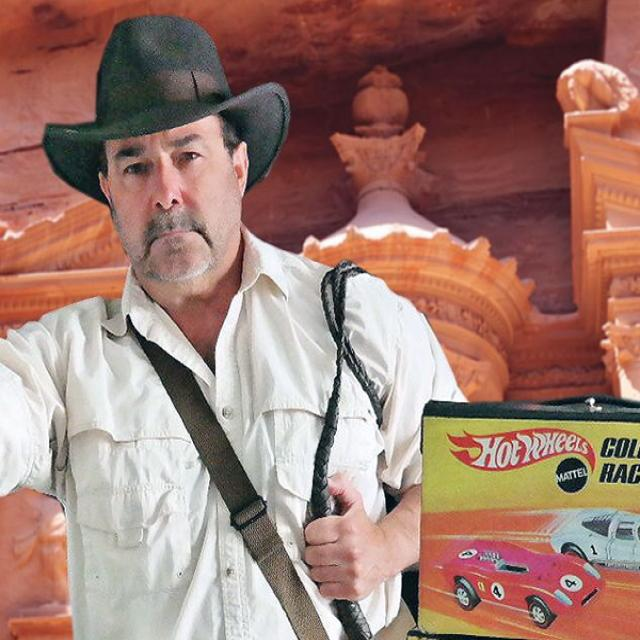car: (438, 532, 605, 628), (551, 506, 639, 570)
